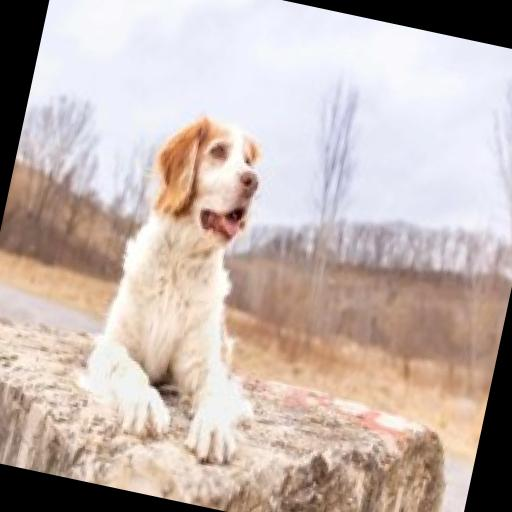dog: (65, 92, 311, 482)
